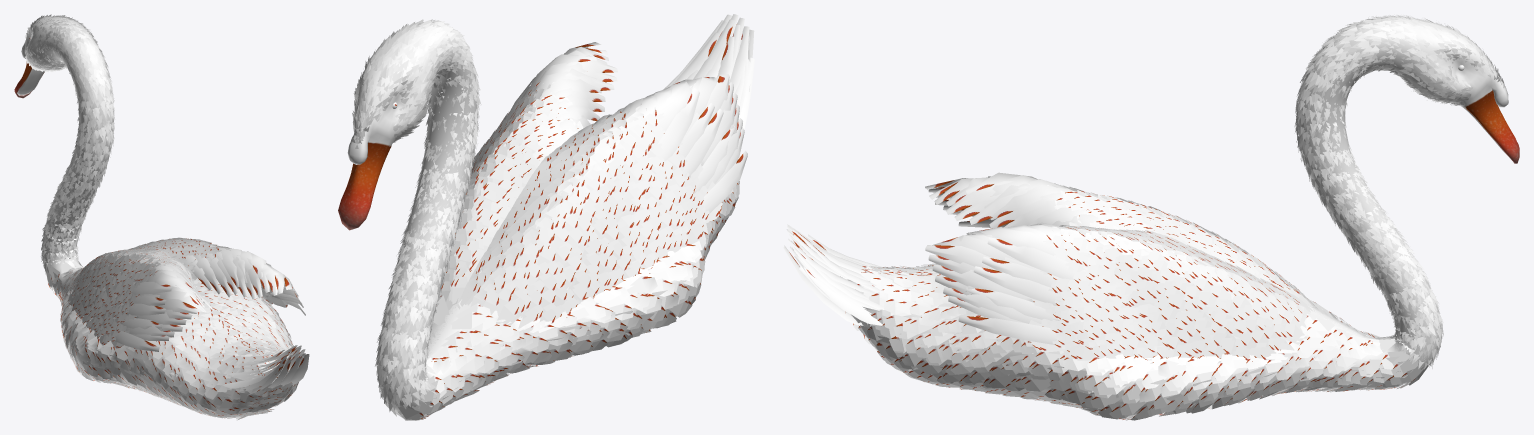
Rendered from Swan3ds.fbx.
3 renders of one model, left to right at view 1: azimuth 30°, elevation 25°; view 2: azimuth 150°, elevation 25°; view 3: azimuth 270°, elevation 25°, orthographic. The views are drawn at different scales.
Parts seen in each view (by area): view 1: Swan; view 2: Swan; view 3: Swan.
Boxes of the visible parts, x1,y1,x2,y2 form: Swan: [14, 14, 309, 420]; Swan: [338, 14, 754, 420]; Swan: [783, 15, 1519, 420].
Size of the model in its own units: 28.61 by 40.29 by 72.65.
1 material, 1 textured.
